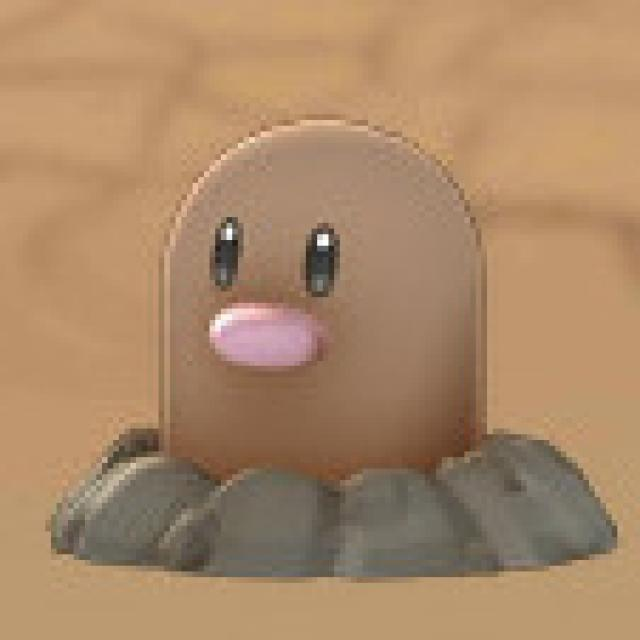Diglett: (154, 109, 494, 513)
